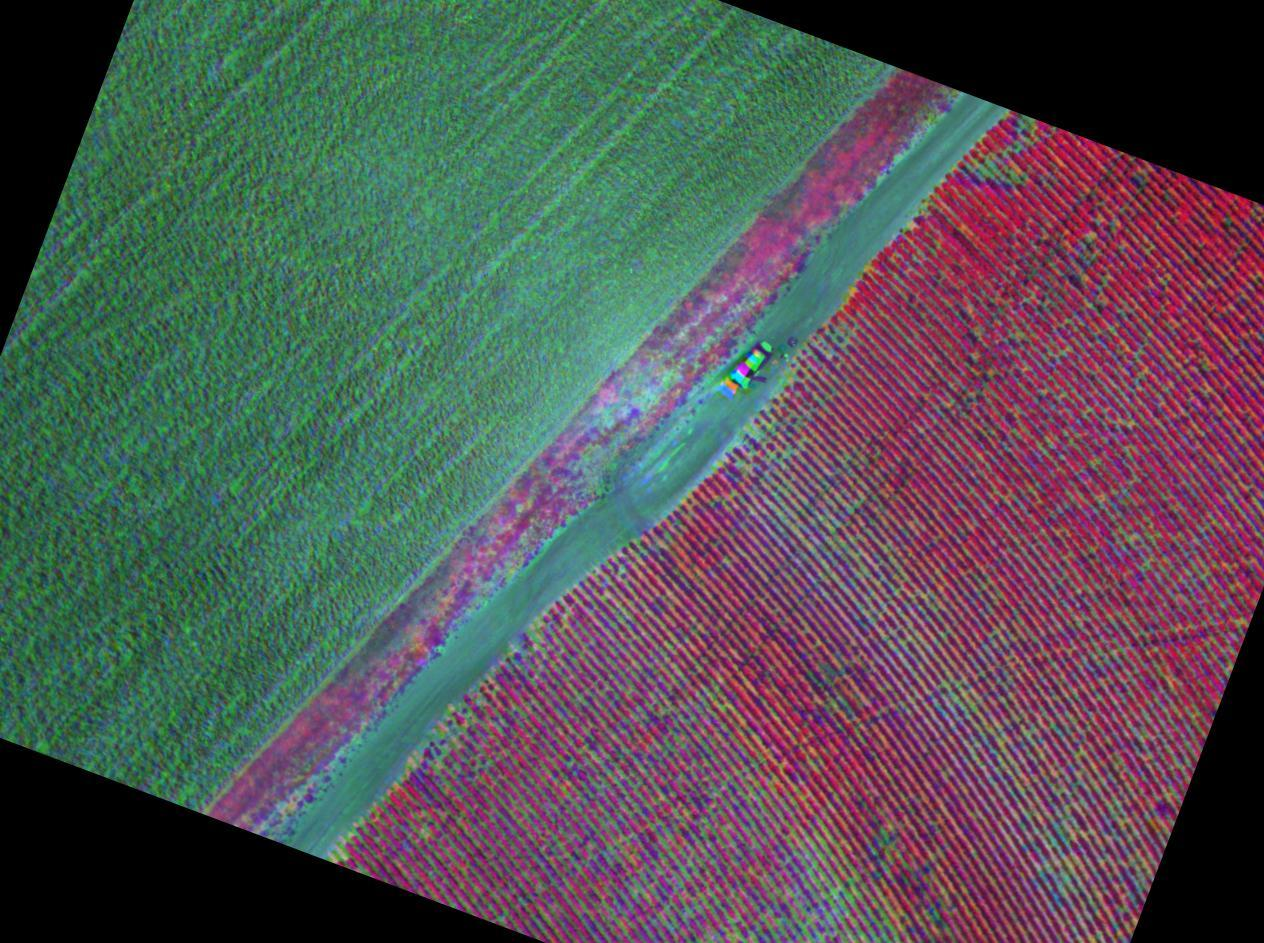dc: (753, 429, 759, 435), (830, 527, 835, 533), (944, 683, 948, 688), (842, 885, 846, 890), (901, 641, 905, 645), (808, 919, 812, 923)
